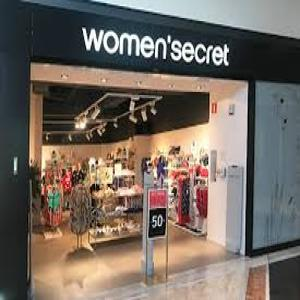women_secret: (73, 25, 232, 69)
